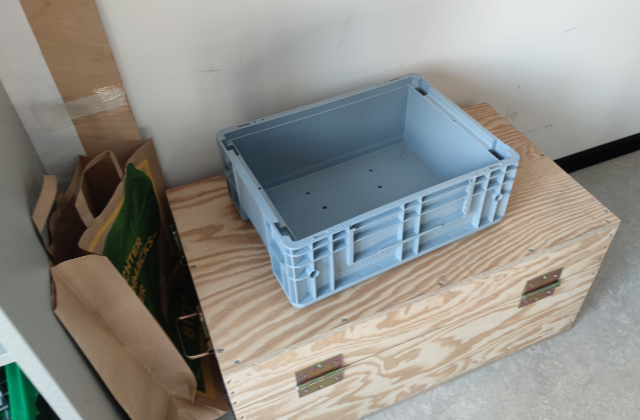Box: (212, 70, 522, 309)
